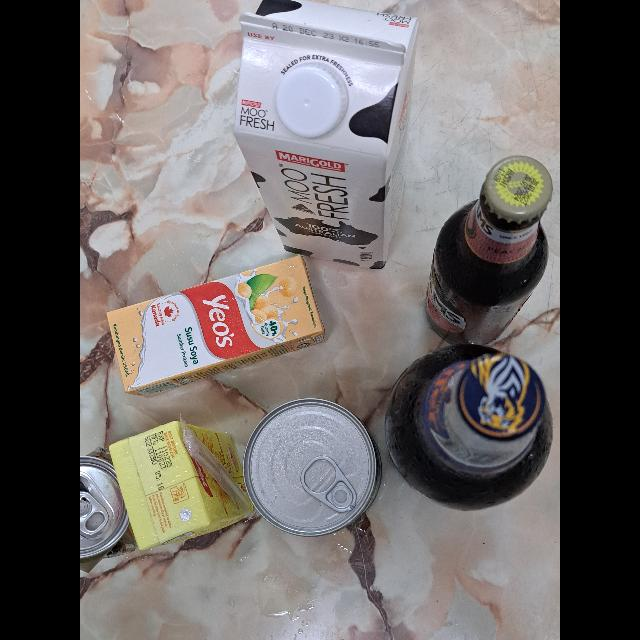aba de lata: (300, 453, 354, 512), (80, 494, 106, 538)
caixinha: (234, 1, 416, 268), (108, 252, 326, 396), (245, 398, 382, 540), (112, 420, 255, 550)
garrafa de vidro: (384, 344, 556, 508), (426, 155, 552, 341)
lata: (80, 456, 130, 554)
tampa plástica: (276, 62, 348, 140)
